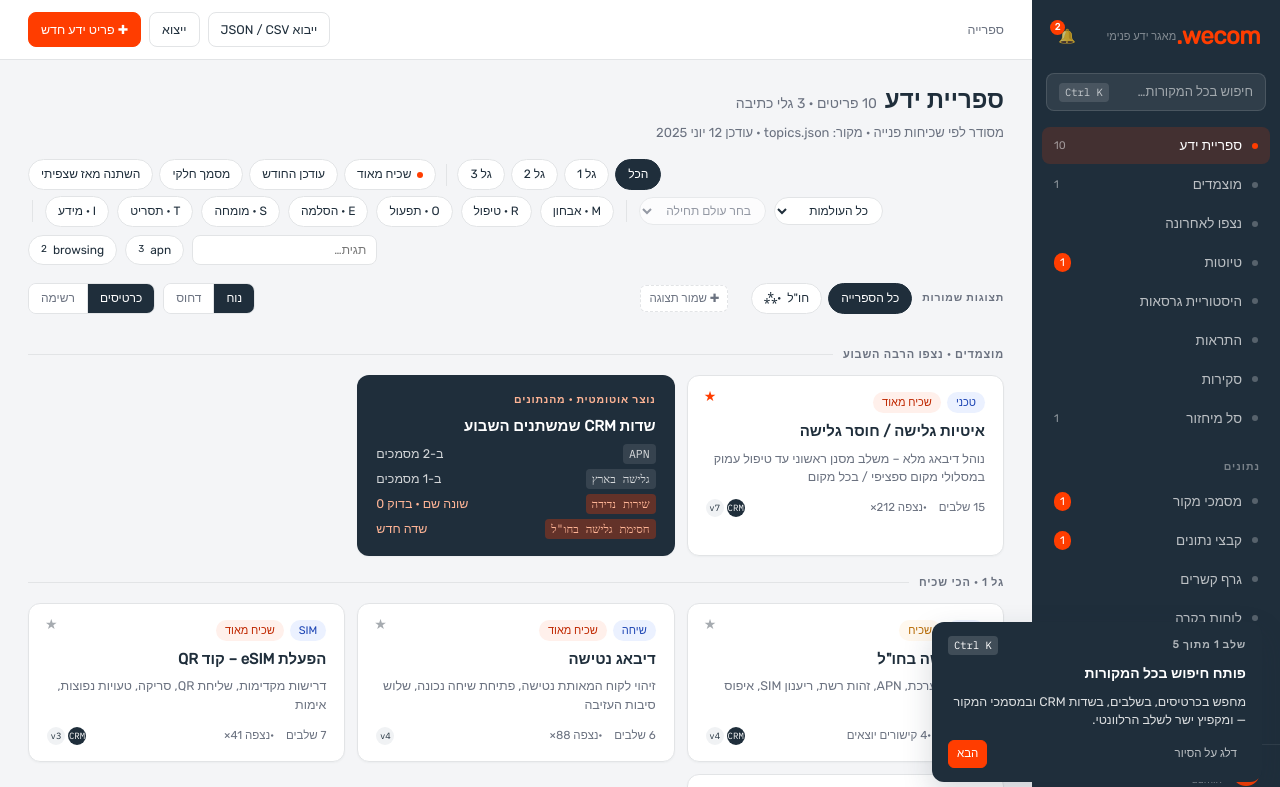
Scenario: the palette footer stat › counts the local rows, with no files and no timing, for a query that was never sent
Type keys "{Control>}k{/Control}"
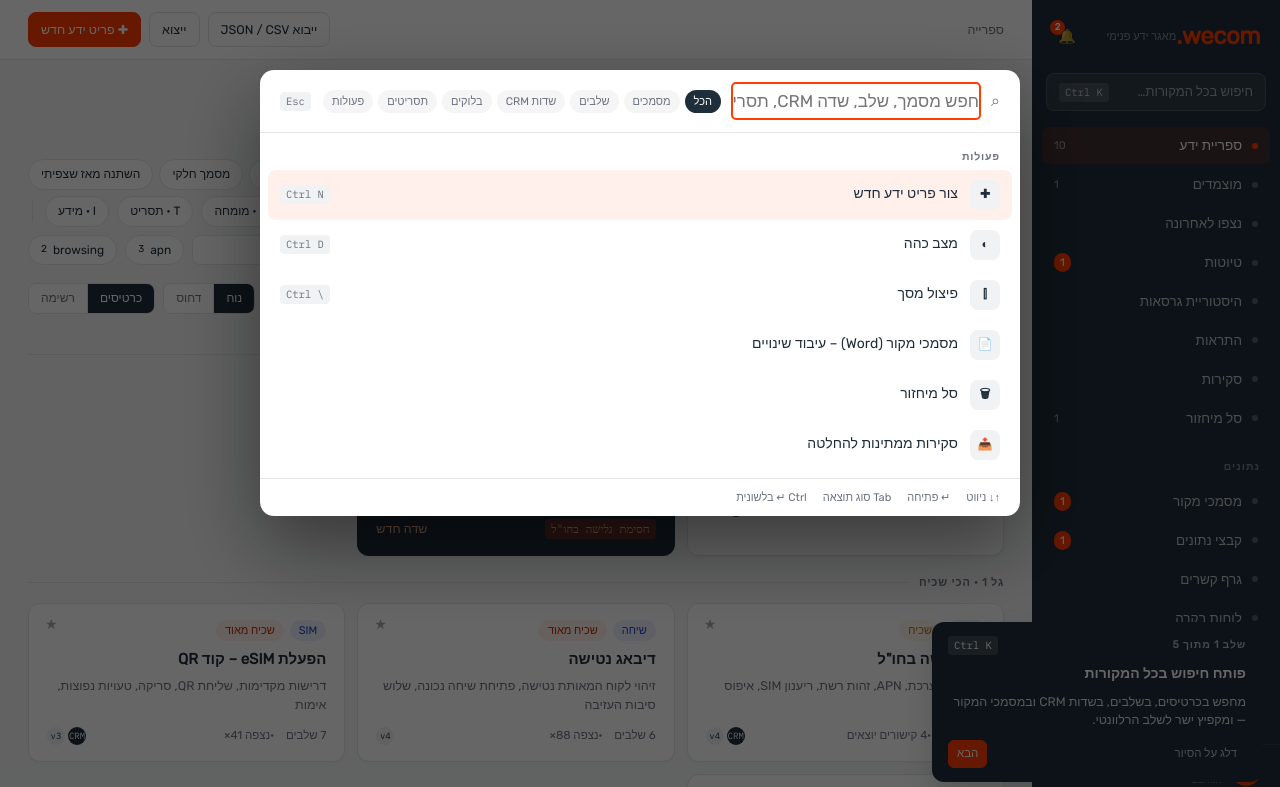
Type "גל" into the field with placeholder "חפש מסמך, שלב, שדה CRM, תסריט או פעולה…" at (856, 101), box 733,84 -> 979,118
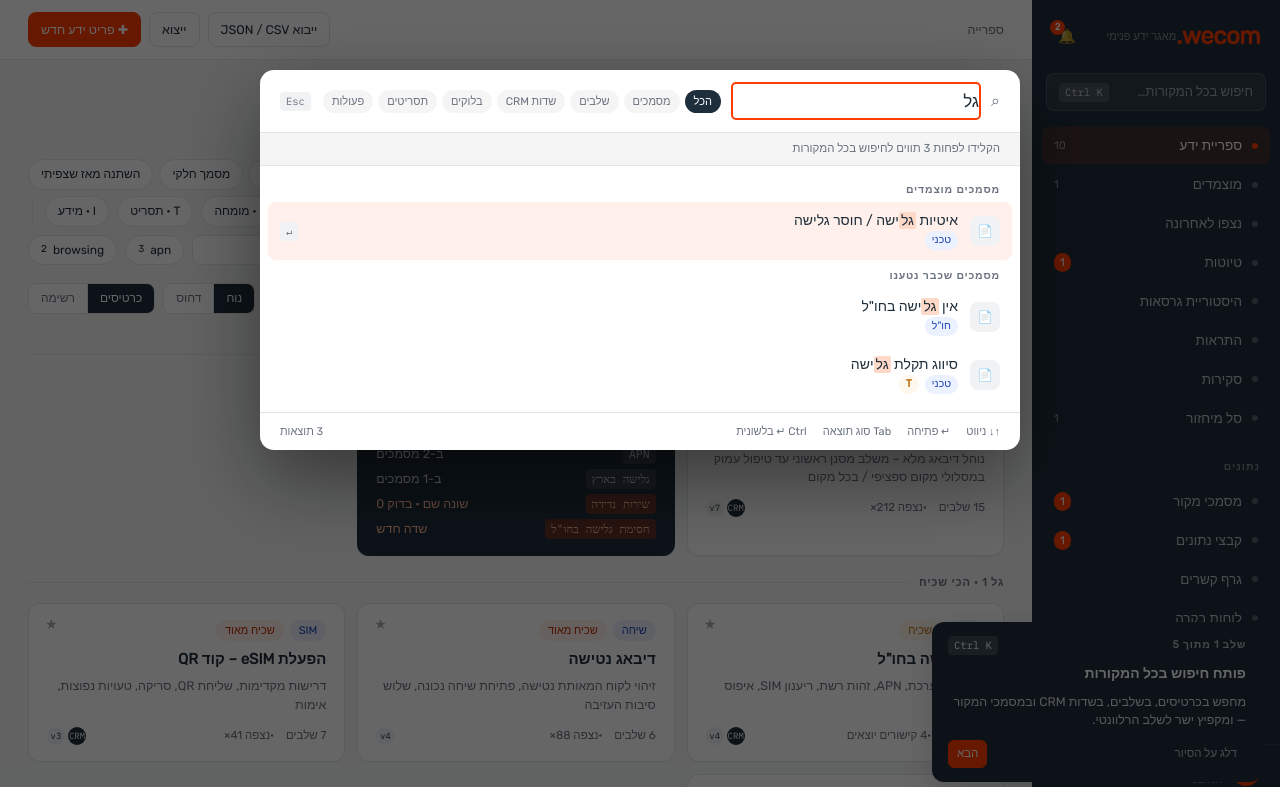
Now the message "הקלידו לפחות 3 תווים לחיפוש בכל המקורות" is shown, box 260,133 -> 1020,166
